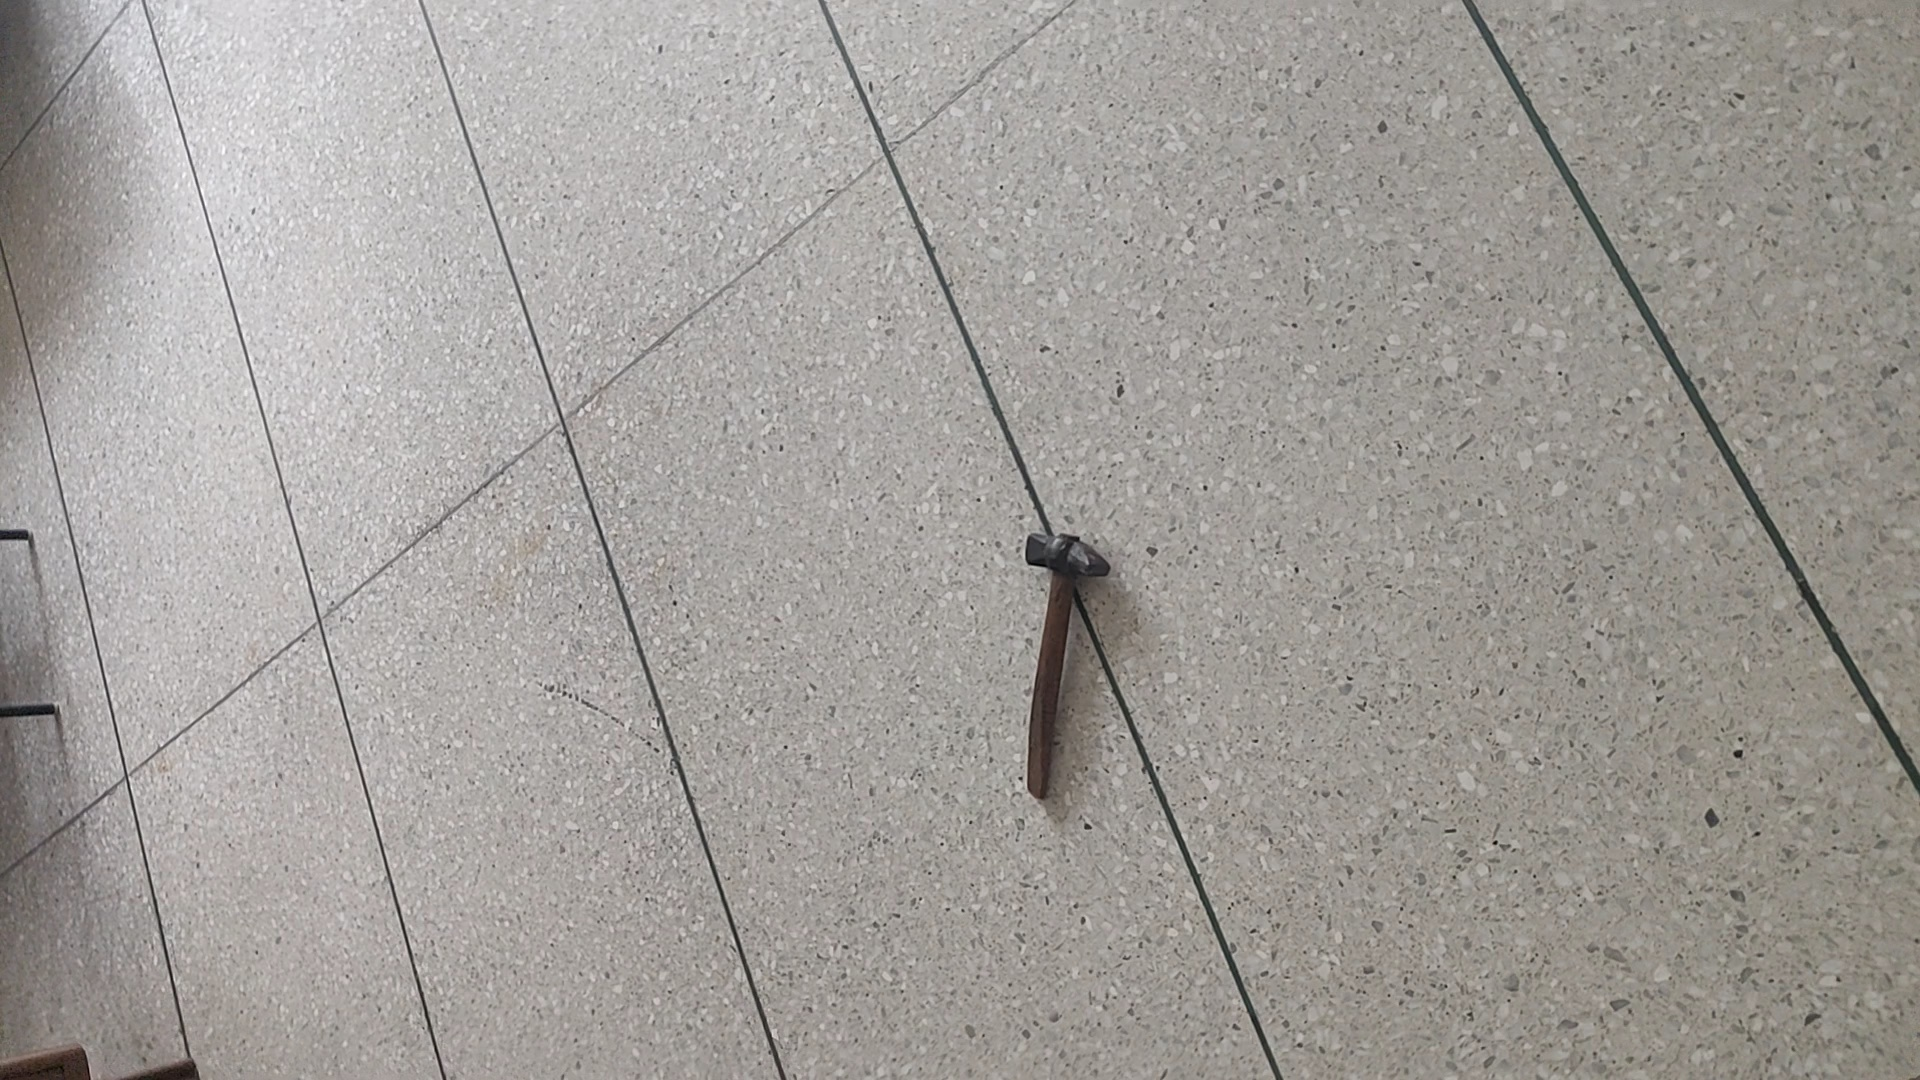hammer: (1018, 530, 1109, 800)
